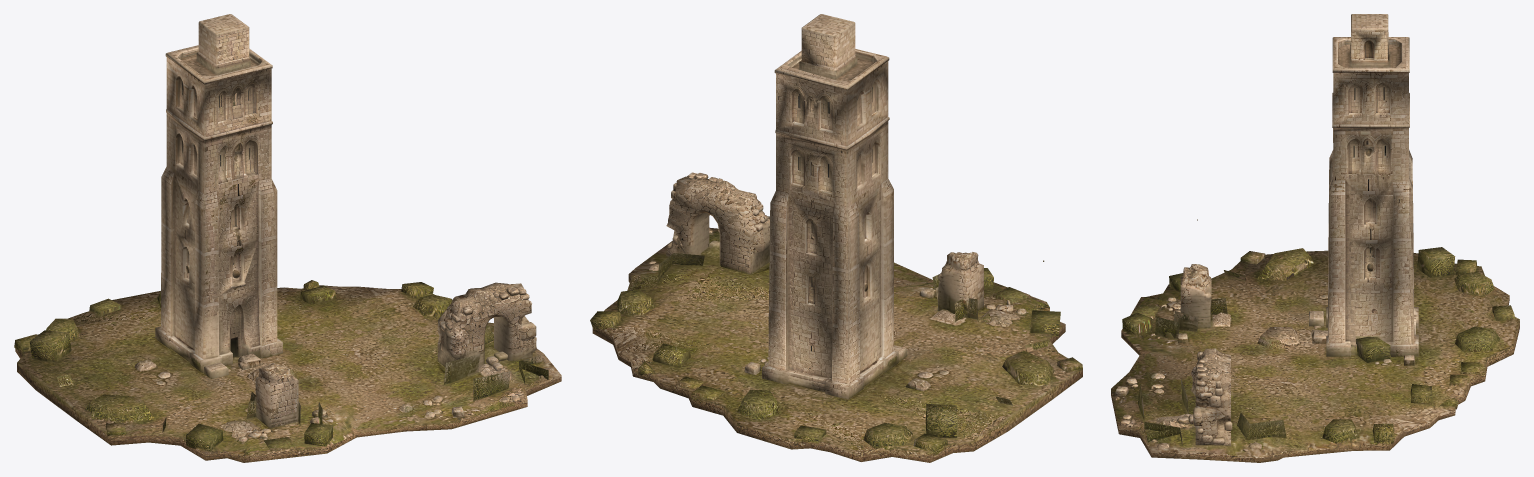
File: statecraft-ramla-approved-textured-aaf2619f.glb
The picture shows the model from 3 angles, left to right: view 1: azimuth 30°, elevation 25°; view 2: azimuth 150°, elevation 25°; view 3: azimuth 270°, elevation 25°; orthographic projection. The views are drawn at different scales.
Visible parts, largest first — view 1: tripo_node_fff81f88-4884-427f-91e8-1a212cb2b380; view 2: tripo_node_fff81f88-4884-427f-91e8-1a212cb2b380; view 3: tripo_node_fff81f88-4884-427f-91e8-1a212cb2b380.
Boxes of the visible parts, x1,y1,x2,y2 form: tripo_node_fff81f88-4884-427f-91e8-1a212cb2b380: (14,14,561,462); tripo_node_fff81f88-4884-427f-91e8-1a212cb2b380: (590,14,1082,462); tripo_node_fff81f88-4884-427f-91e8-1a212cb2b380: (1111,14,1519,462).
Size of the model in its own units: 0.9995 by 0.7671 by 0.8667.
1 material, 1 textured.
